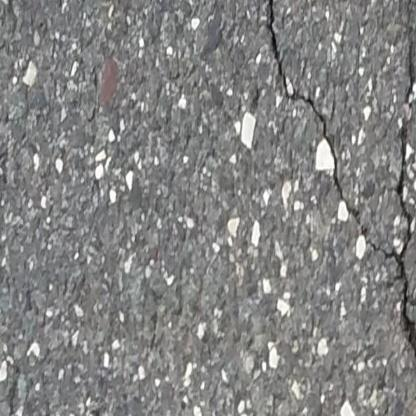Cracks: (267, 0, 416, 405), (17, 356, 31, 386), (14, 407, 32, 416)
